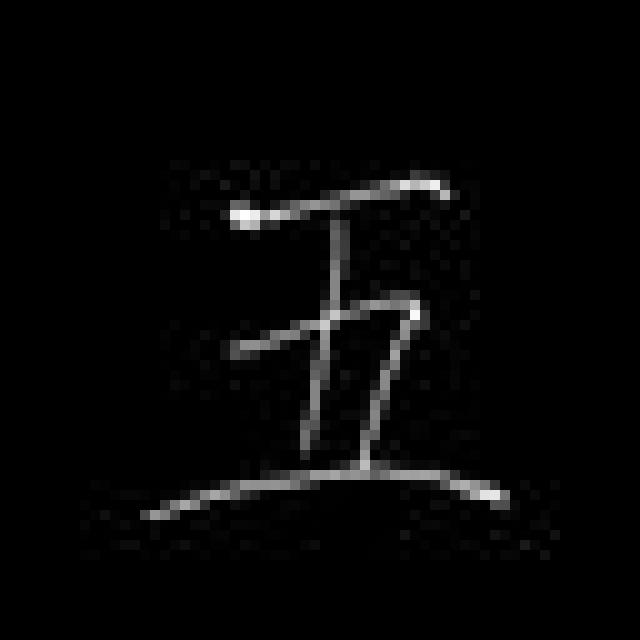5 -five-: (136, 168, 514, 528)
